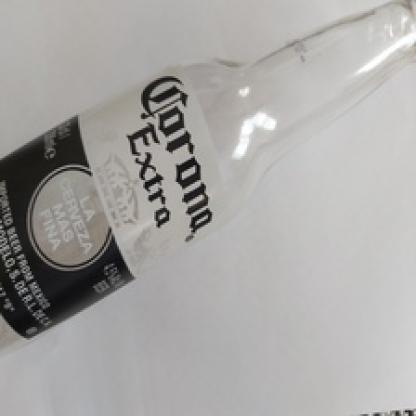Can: (1, 0, 416, 359)
